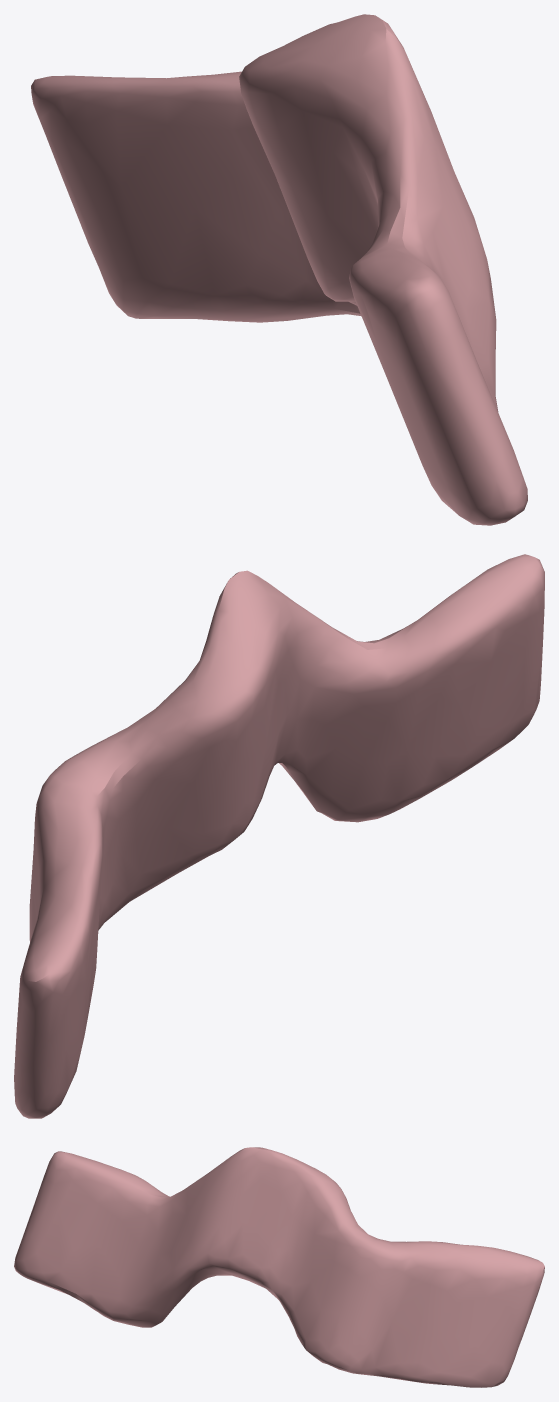
The model's file is fma275375-n_mm3381.glb.
3 views of the same model, one above another, from view 1: azimuth 30°, elevation 25°; view 2: azimuth 150°, elevation 25°; view 3: azimuth 270°, elevation 25° (orthographic). The views are drawn at different scales.
Visible parts, largest first — view 1: FMA275375-N_MM3381; view 2: FMA275375-N_MM3381; view 3: FMA275375-N_MM3381.
Part boxes in pixels (x1,y1,x2,y2): FMA275375-N_MM3381: [31, 14, 527, 525]; FMA275375-N_MM3381: [14, 554, 544, 1118]; FMA275375-N_MM3381: [14, 1147, 544, 1387].
Size of the model in its own units: 0.0132 by 0.0186 by 0.0378.
